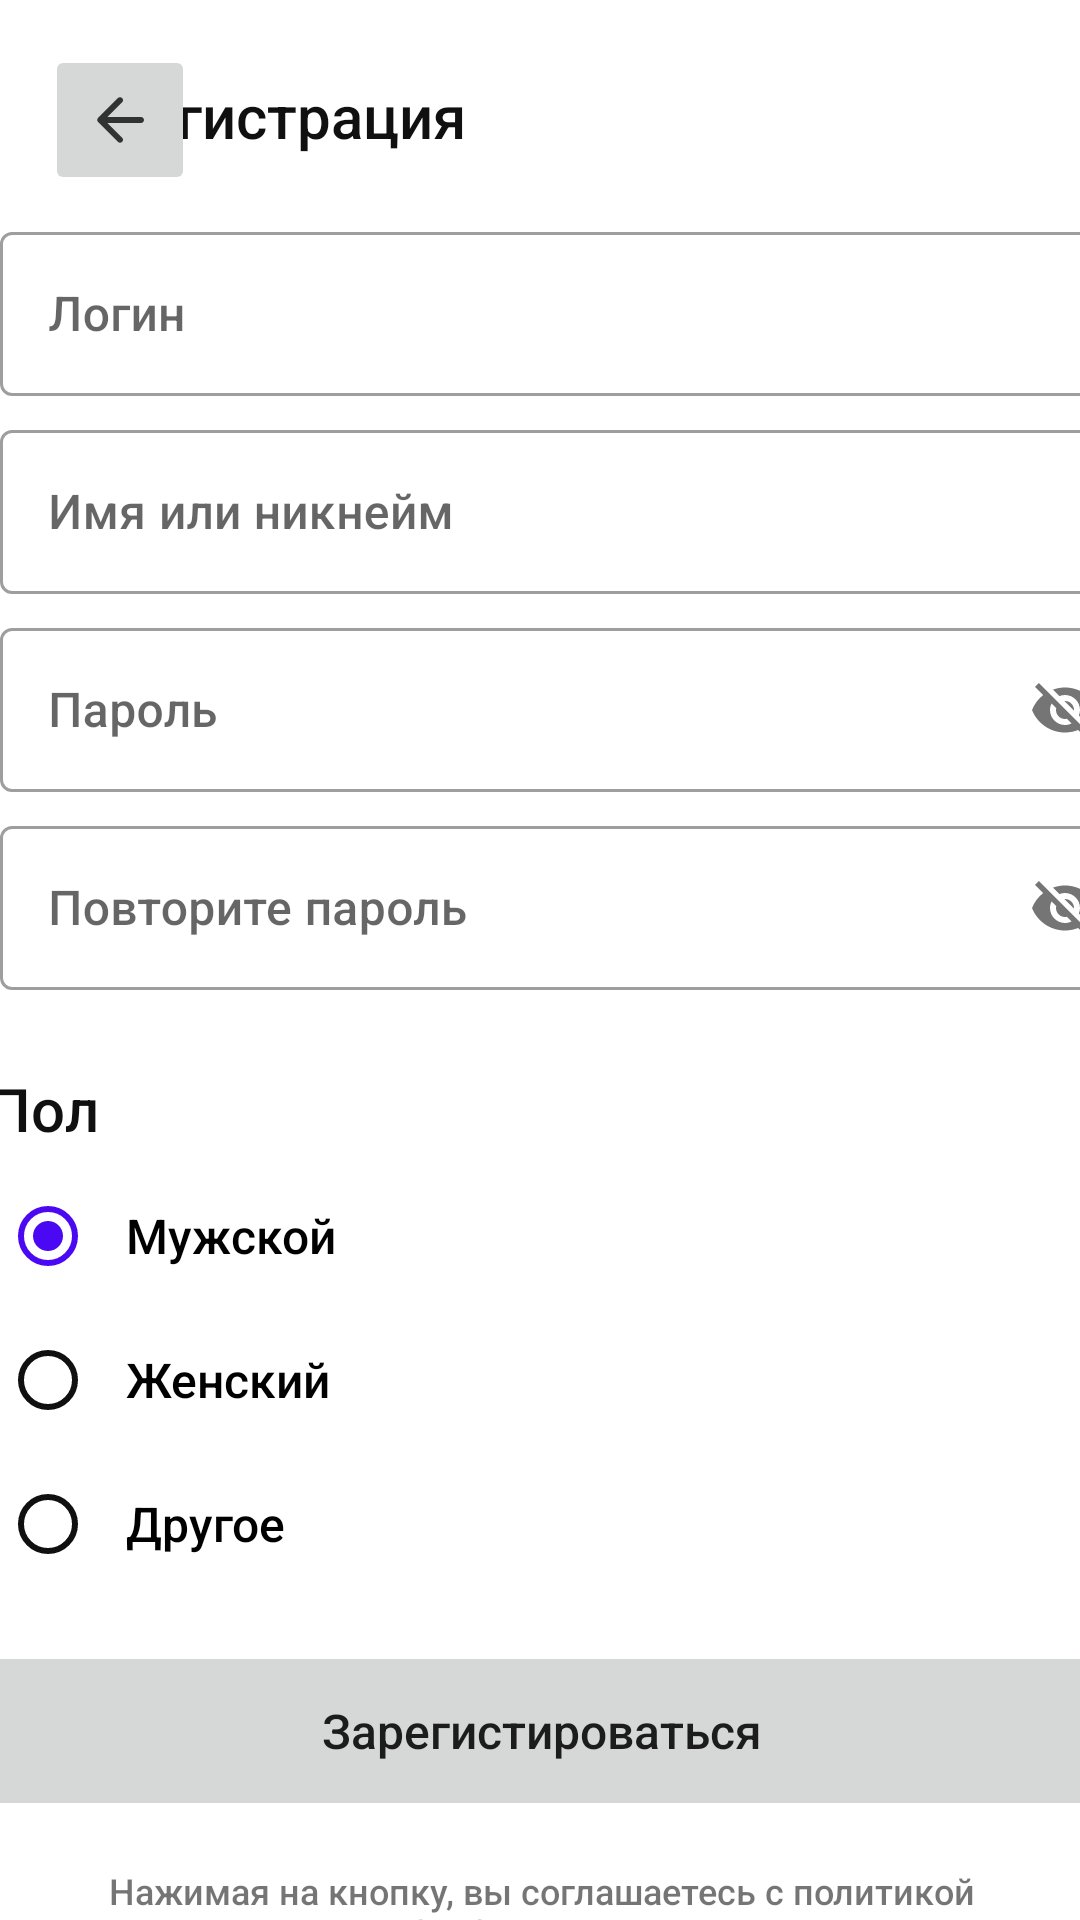

Where to tap for icons on this 1080px×1920px app screen, as (x,y):
arrow back: (126,120)
